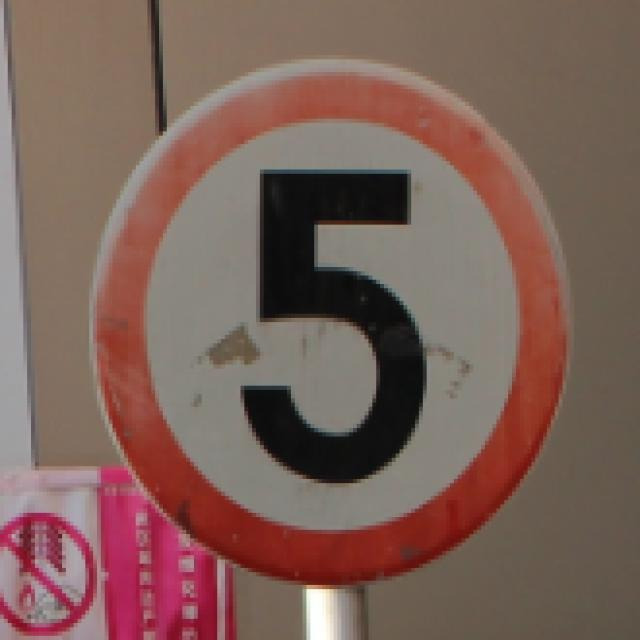Speed: (78, 37, 594, 596)
